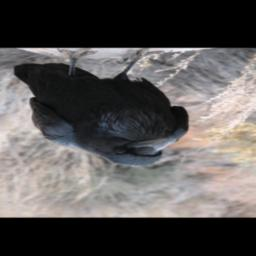Crow: (10, 48, 192, 167)
